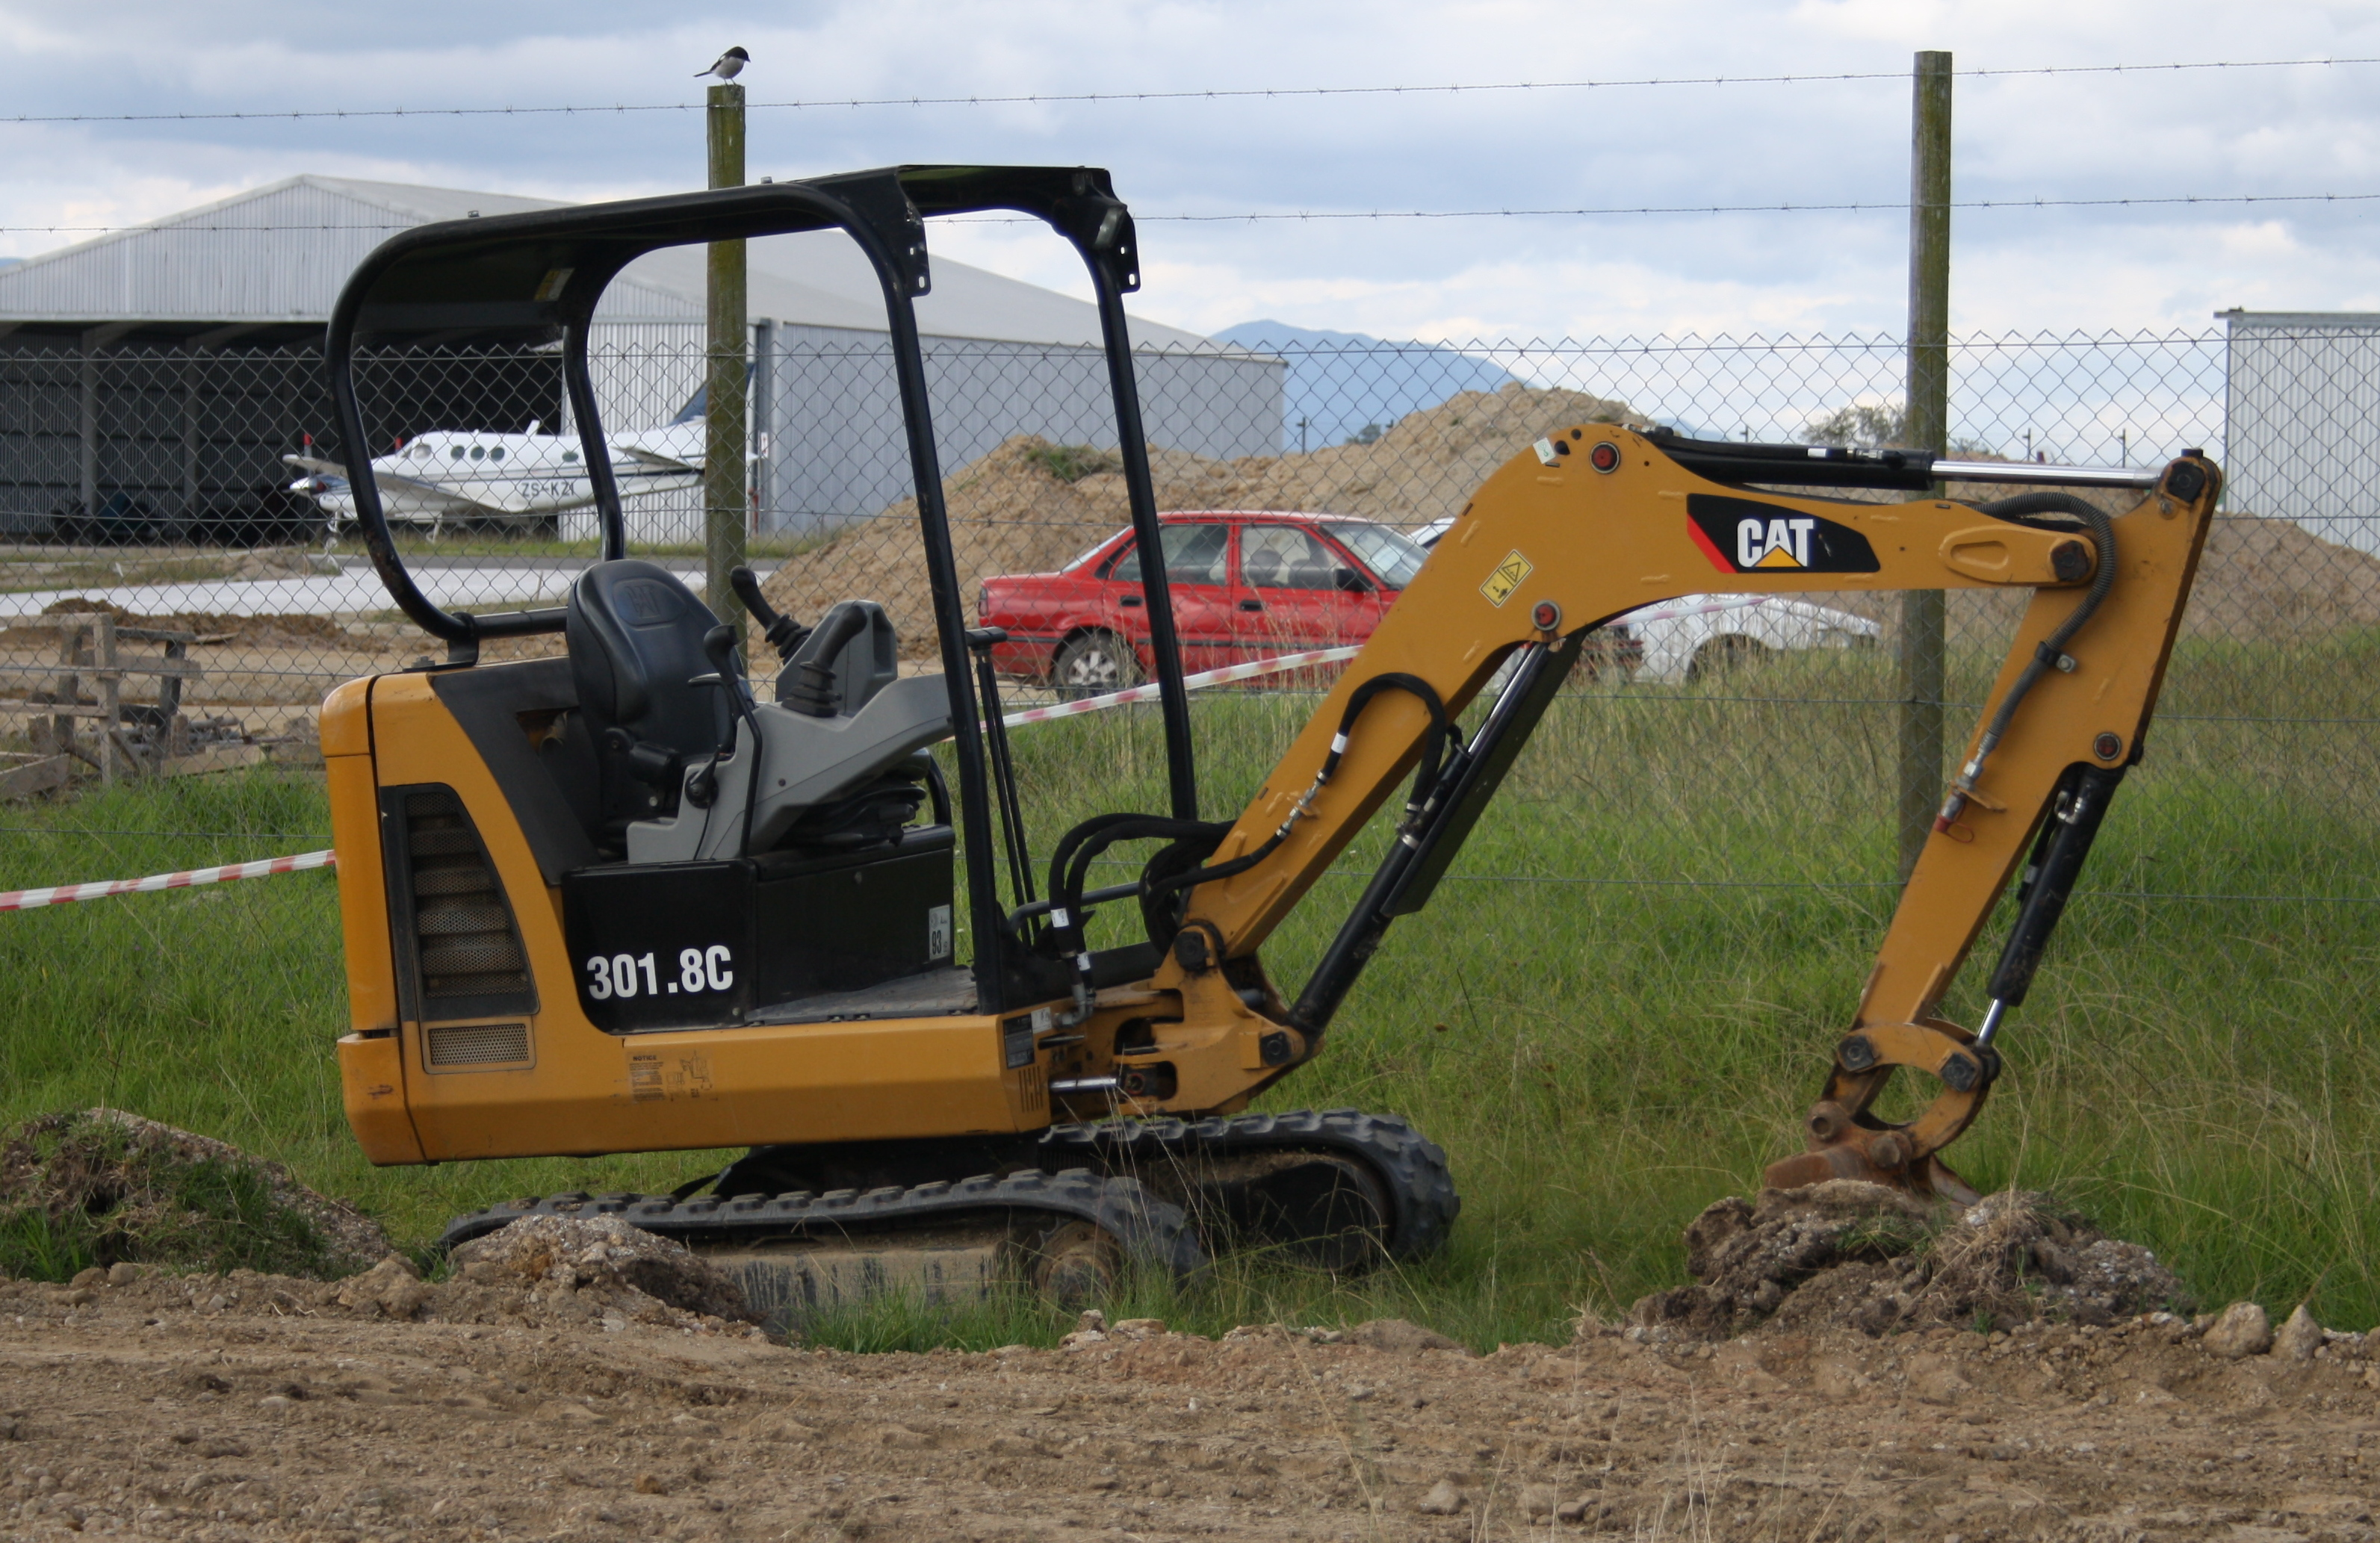excavator: (317, 168, 2248, 1352)
